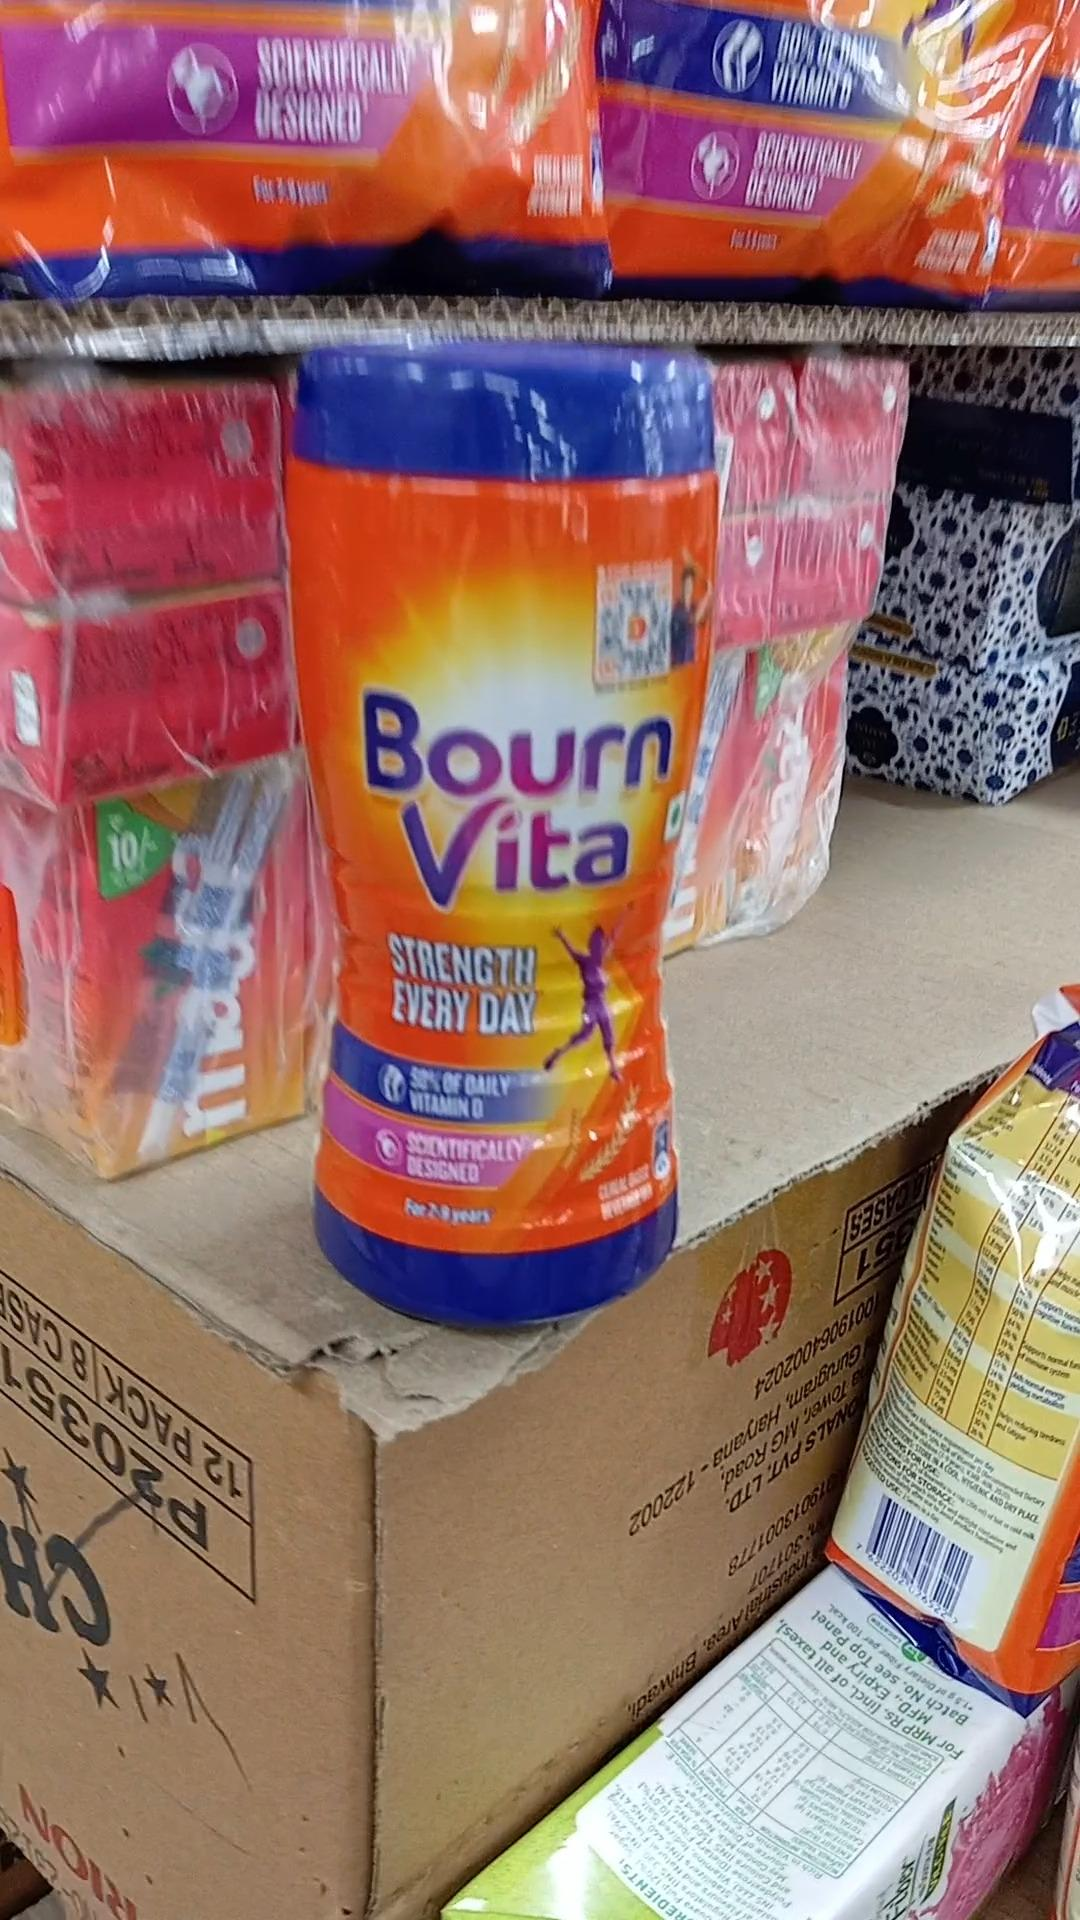BOURN_VITA_200_G_JAR: (280, 320, 709, 1340)
